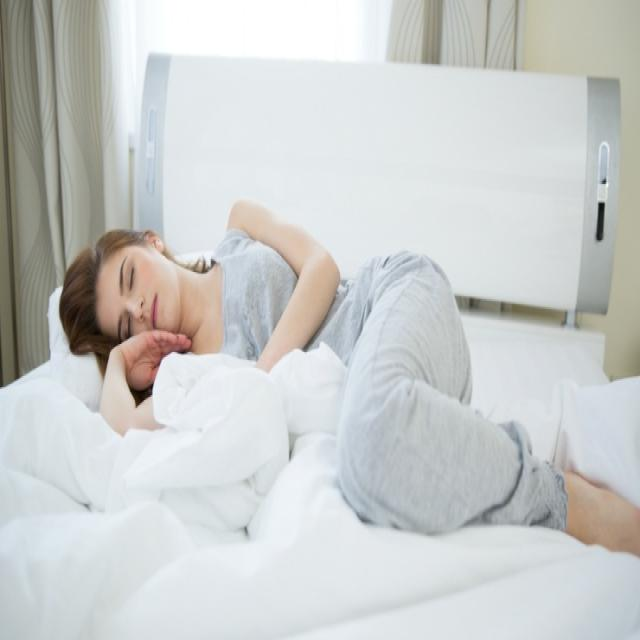sleeping-person: (50, 186, 640, 584)
